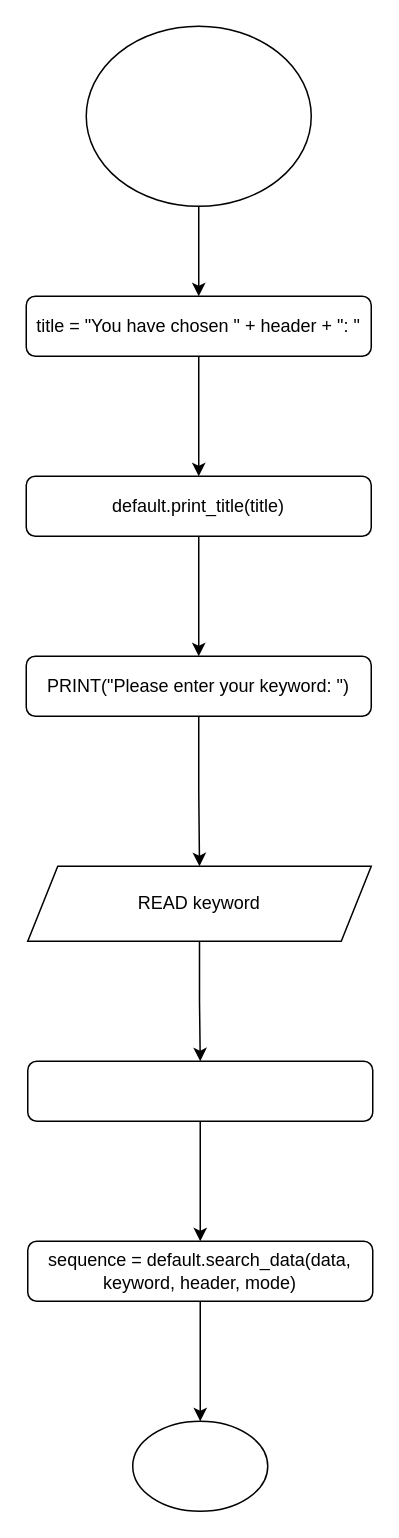
Image size: 399x1538. Some labels were removed from this diagram. Each missing label, with the box of its shape:
PRINT(""): (26, 1060, 373, 1121)
RETURN sequence: (131, 1420, 268, 1511)
sub_search_menu(header, data, mode): (85, 25, 311, 206)
